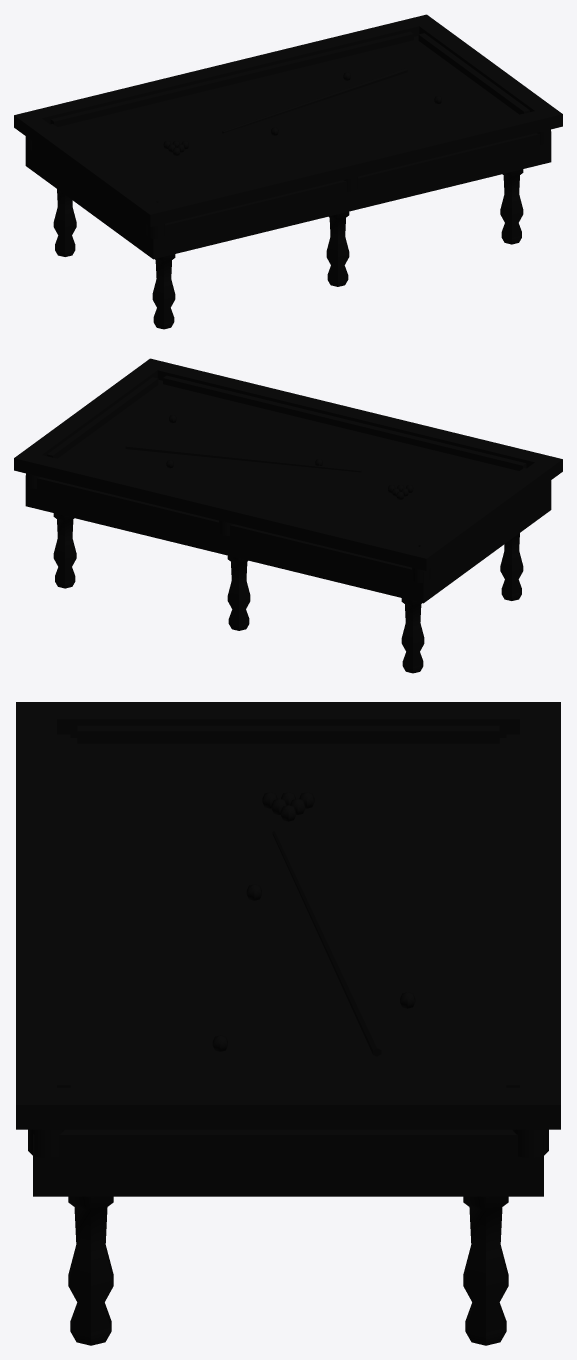
The model's file is SM_billiard_table.fbx.
The picture shows the model from 3 angles, top to bottom: view 1: azimuth 30°, elevation 25°; view 2: azimuth 150°, elevation 25°; view 3: azimuth 270°, elevation 25°; orthographic projection. The views are drawn at different scales.
Parts seen in each view (by area): view 1: billiard_table; view 2: billiard_table; view 3: billiard_table.
Part boxes in pixels (x1,y1,x2,y2): billiard_table: [14, 14, 562, 329]; billiard_table: [14, 358, 562, 673]; billiard_table: [16, 702, 560, 1345].
Bounding box in the file's own units: 2.8 × 0.8776 × 1.6.
